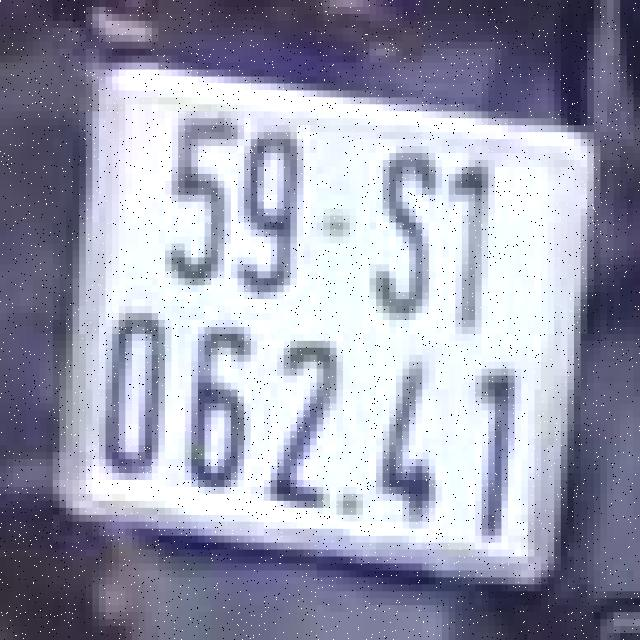0: (92, 306, 172, 480)
1: (436, 142, 508, 330), (455, 358, 521, 553)
2: (268, 331, 346, 518)
4: (373, 348, 452, 529)
5: (162, 101, 234, 289)
6: (188, 306, 261, 501)
9: (234, 118, 307, 306)
S: (366, 139, 439, 320)
